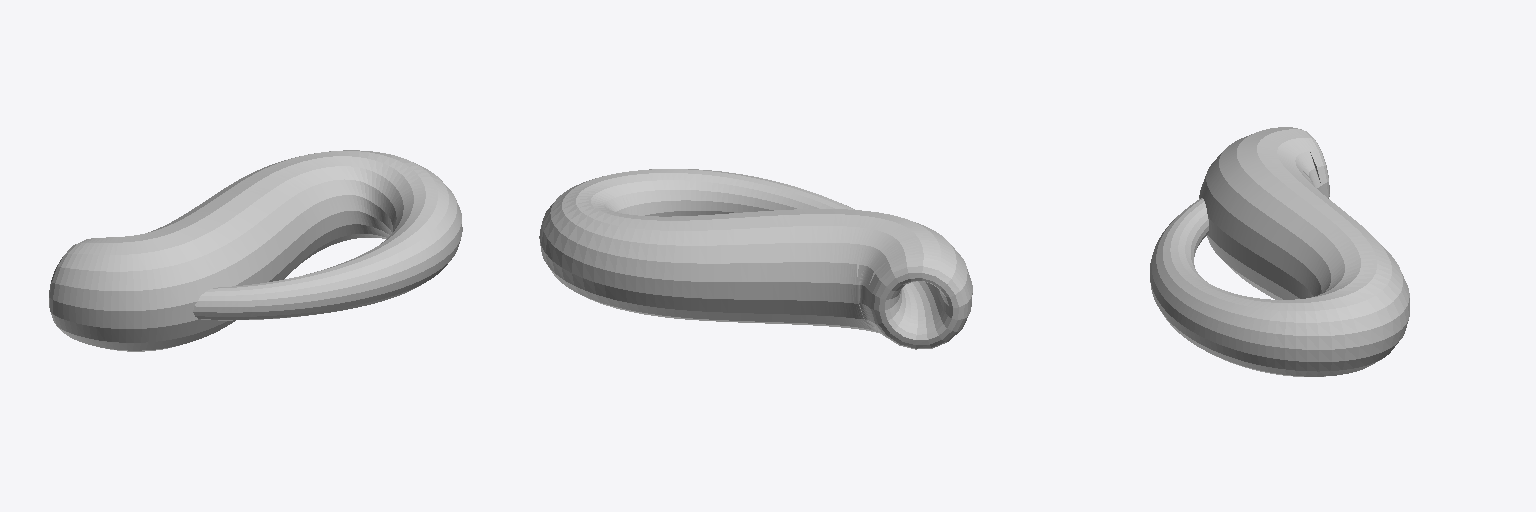
The model's file is klein_bottle_3d_surface.obj.
3 renders of one model, left to right at view 1: azimuth 30°, elevation 25°; view 2: azimuth 150°, elevation 25°; view 3: azimuth 270°, elevation 25°, orthographic.
Parts seen in each view (by area): view 1: klein_bottle_3d_surface; view 2: klein_bottle_3d_surface; view 3: klein_bottle_3d_surface.
Boxes of the visible parts, x1,y1,x2,y2 form: klein_bottle_3d_surface: [49, 150, 462, 351]; klein_bottle_3d_surface: [539, 169, 972, 349]; klein_bottle_3d_surface: [1150, 127, 1409, 376].
Size of the model in its own units: 755 by 193 by 422.